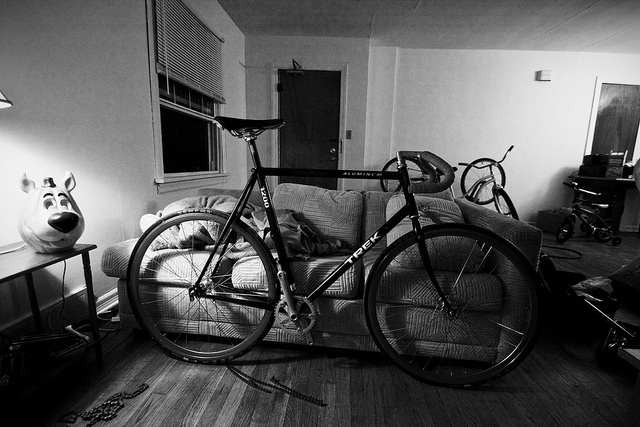non-vehicle: (125, 115, 544, 387), (457, 145, 519, 220), (555, 180, 622, 246)
